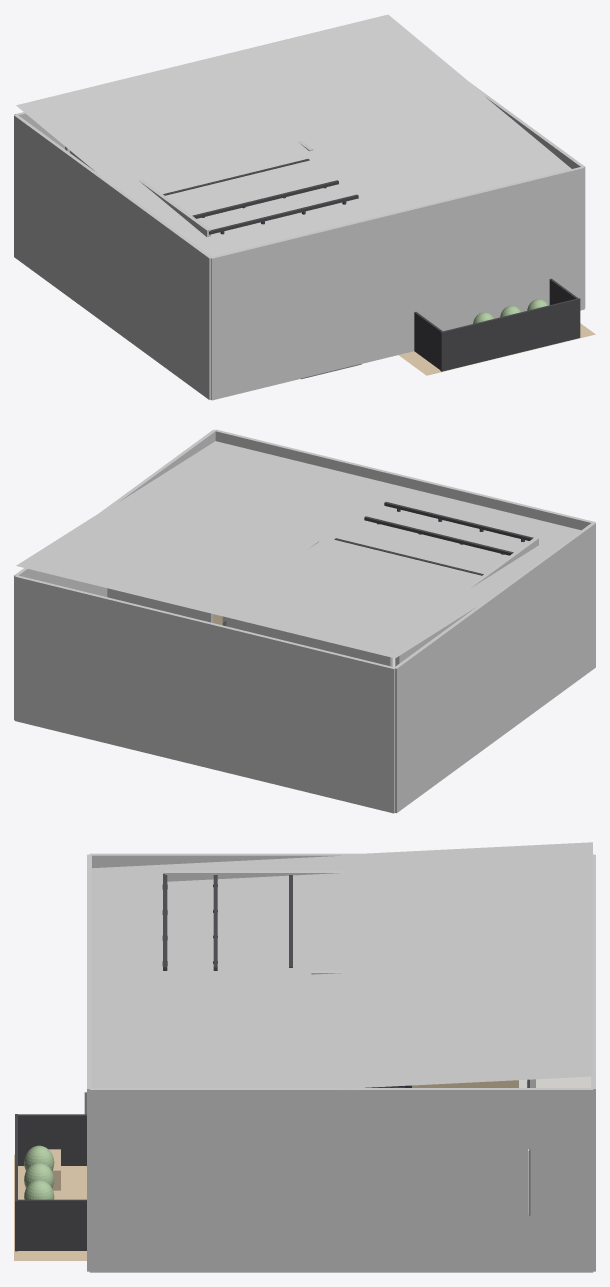
3 renders of one model, top to bottom at view 1: azimuth 30°, elevation 25°; view 2: azimuth 150°, elevation 25°; view 3: azimuth 270°, elevation 25°, orthographic. The views are drawn at different scales.
Visible parts, largest first — view 1: Ceiling, WallS, WallW, TerraceRailS, TerraceRailW, WallE, TerraceFloor, TrackRail6, TrackRail1, MainWallW; view 2: Ceiling, WallN, WallW, WallS, WallE, MainWallN1, MainWallN2, MainWallW, TrackRail1, TrackRail6; view 3: Ceiling, WallE, TerraceRailE, TerraceRailW, WallW, TerraceFloor, WallS, MainWallW, WallN, Floor, PartitionFrame1.
Part boxes in pixels (<box>): Ceiling: <box>16,14,571,256</box>; WallS: <box>210,166,584,400</box>; WallW: <box>14,115,211,399</box>; TerraceRailS: <box>440,298,580,371</box>; TerraceRailW: <box>414,312,443,369</box>; WallE: <box>470,82,585,308</box>; TerraceFloor: <box>399,323,595,375</box>; TrackRail6: <box>209,194,358,234</box>; TrackRail1: <box>192,180,338,218</box>; MainWallW: <box>70,150,210,236</box>; Ceiling: <box>16,441,580,658</box>; WallN: <box>14,575,395,813</box>; WallW: <box>394,522,595,813</box>; WallS: <box>214,429,595,530</box>; WallE: <box>14,429,215,719</box>; MainWallN1: <box>238,620,392,666</box>; MainWallN2: <box>107,588,213,622</box>; MainWallW: <box>395,537,538,666</box>; TrackRail1: <box>364,516,513,555</box>; TrackRail6: <box>384,502,533,540</box>; Ceiling: <box>92,842,592,1088</box>; WallE: <box>89,1088,593,1272</box>; TerraceRailE: <box>16,1199,86,1250</box>; TerraceRailW: <box>15,1114,86,1165</box>; WallW: <box>89,853,593,868</box>; TerraceFloor: <box>14,1154,86,1260</box>; WallS: <box>87,854,91,1271</box>; MainWallW: <box>165,870,341,881</box>; WallN: <box>591,854,595,1271</box>; Floor: <box>519,1076,590,1087</box>; PartitionFrame1: <box>412,1080,518,1087</box>.
Bounding box in the file's own units: 11.17 × 4.29 × 11.55.
